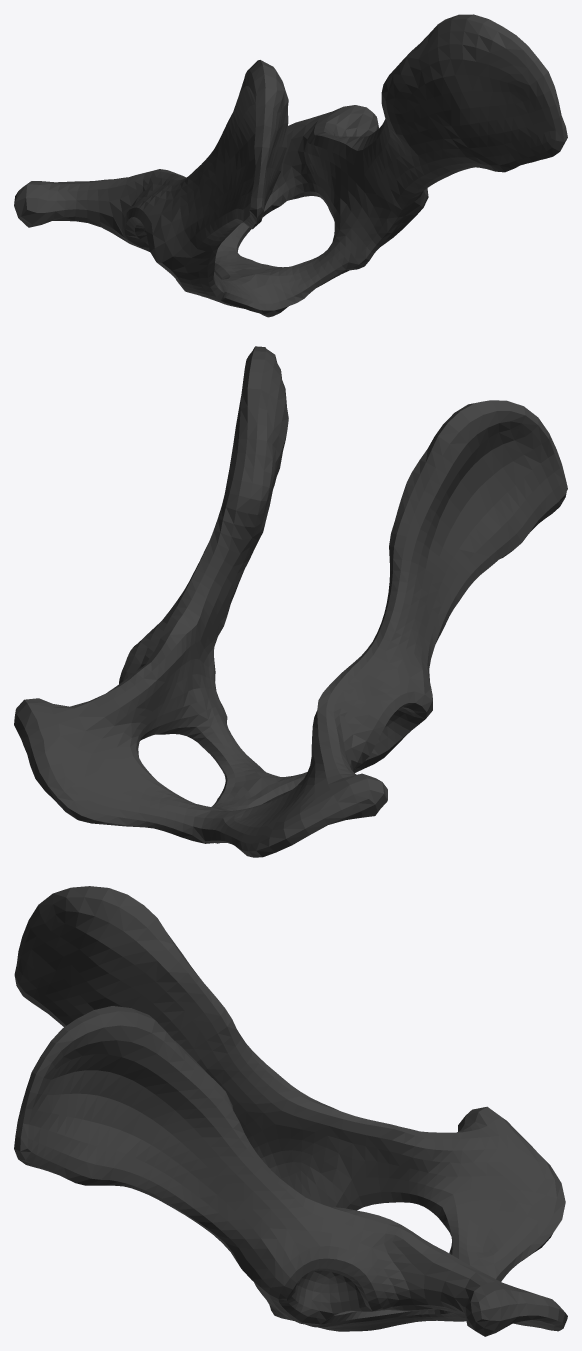
Rendered from Pelvis.glb.
3 renders of one model, top to bottom at view 1: azimuth 30°, elevation 25°; view 2: azimuth 150°, elevation 25°; view 3: azimuth 270°, elevation 25°, orthographic. The views are drawn at different scales.
Visible parts, largest first — view 1: Pelvis; view 2: Pelvis; view 3: Pelvis.
Part boxes in pixels (box(x1,y1,x2,y2)): Pelvis: box(14, 14, 567, 317); Pelvis: box(14, 346, 567, 857); Pelvis: box(14, 886, 567, 1336).
Size of the model in its own units: 7.04 by 6.47 by 8.41.
1 material, 1 textured.
